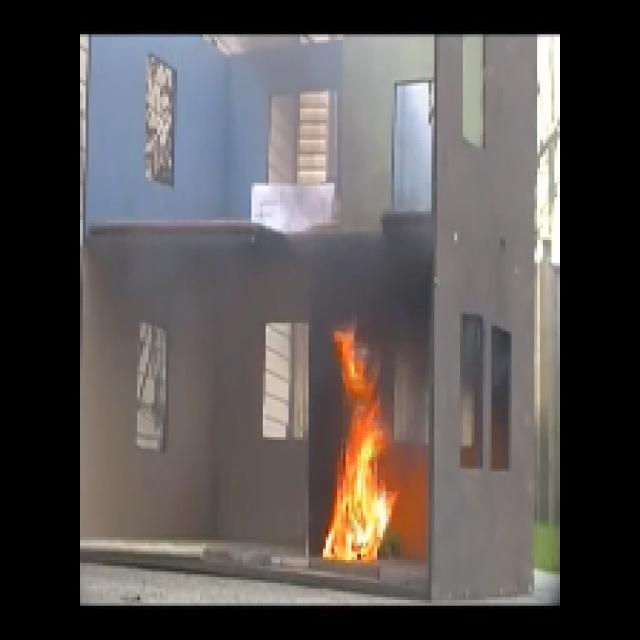fire: (334, 323, 394, 570)
